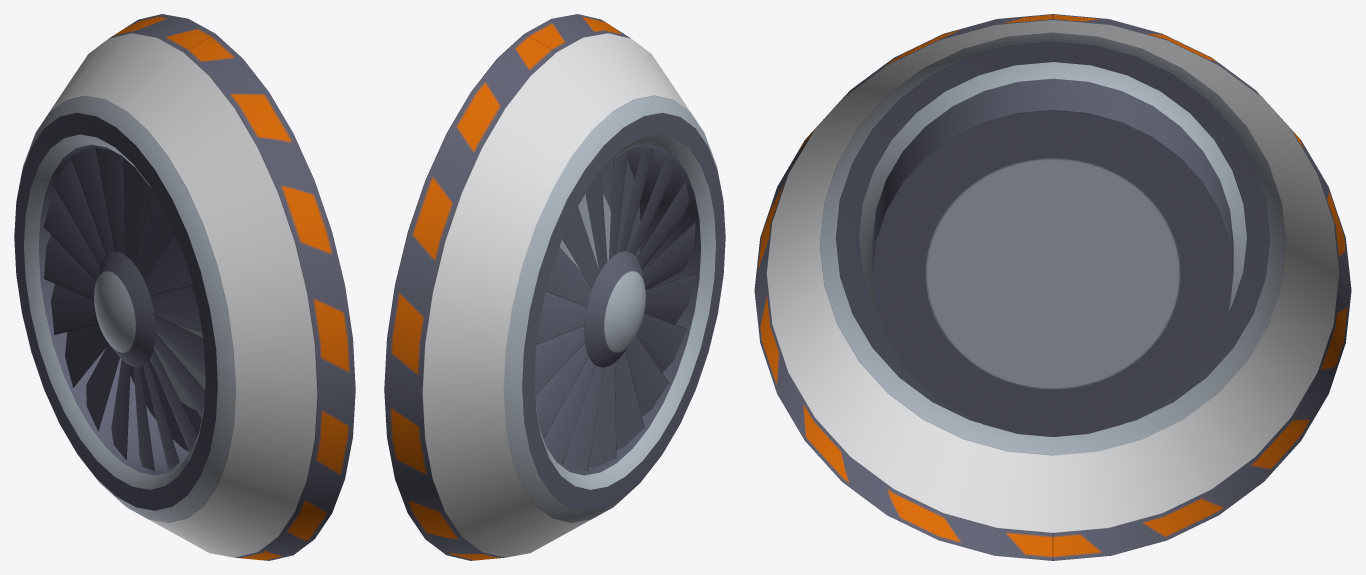
The model's file is Wall_Fan_01.FBX.
3 renders of one model, left to right at view 1: azimuth 30°, elevation 25°; view 2: azimuth 150°, elevation 25°; view 3: azimuth 270°, elevation 25°, orthographic. The views are drawn at different scales.
Parts seen in each view (by area): view 1: Wall_Fan_01, Wheel; view 2: Wall_Fan_01, Wheel; view 3: Wall_Fan_01.
Boxes of the visible parts, <box> form: Wall_Fan_01: <box>14,14,355,560</box>; Wheel: <box>43,146,205,471</box>; Wall_Fan_01: <box>384,14,725,560</box>; Wheel: <box>534,147,696,470</box>; Wall_Fan_01: <box>754,14,1351,560</box>.
Bounding box in the file's own units: 0.4567 × 2 × 2.
Materials: 3 (3 with a texture image).
